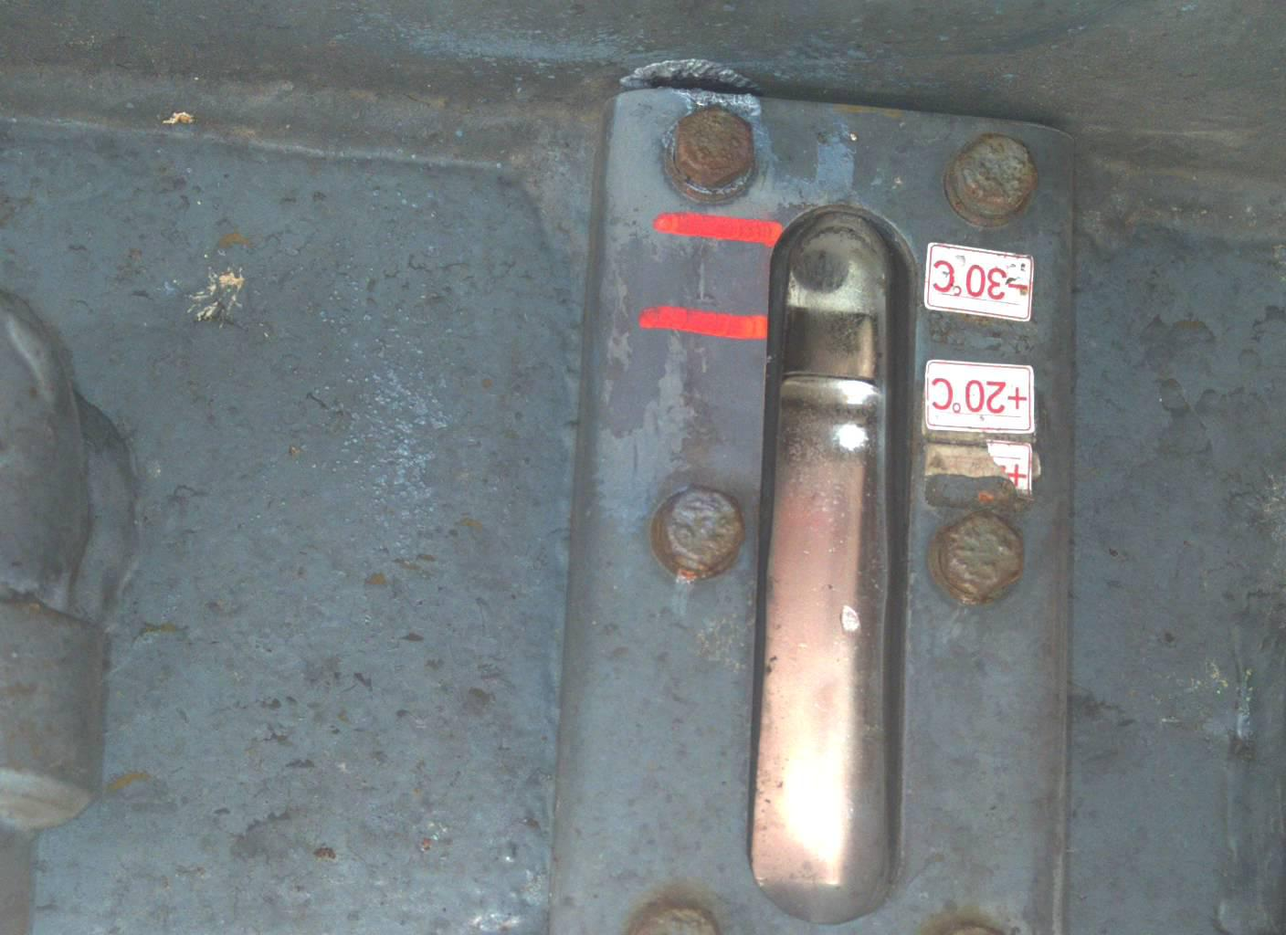oil_level_gauge: (641, 100, 1050, 930)
